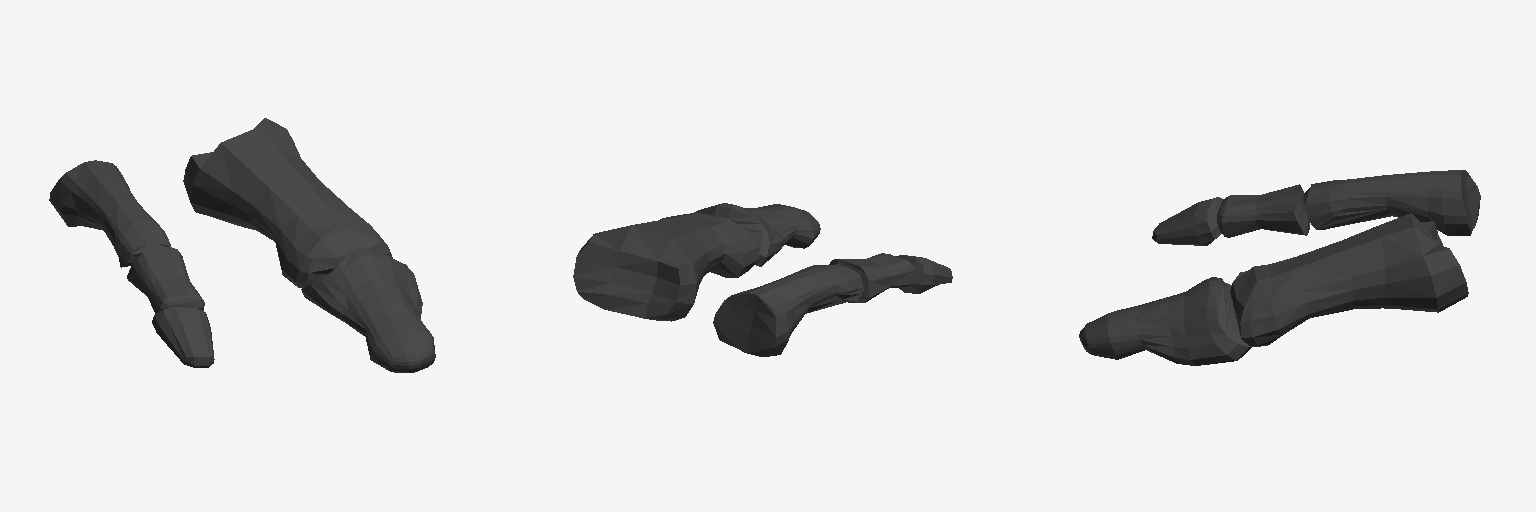
Rendered from R_FootThumb.obj.
The picture shows the model from 3 angles: view 1: azimuth 30°, elevation 25°; view 2: azimuth 150°, elevation 25°; view 3: azimuth 270°, elevation 25°; orthographic projection.
Bounding box in the file's own units: 4.65 × 2.12 × 6.13.